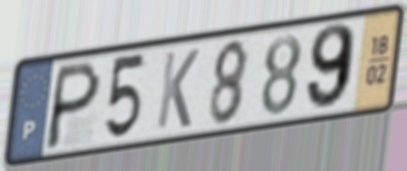5: (102, 49, 151, 143)
8: (257, 29, 305, 120), (207, 36, 252, 128)
9: (305, 21, 362, 114)
K: (153, 46, 202, 132)
P: (41, 57, 105, 153)
